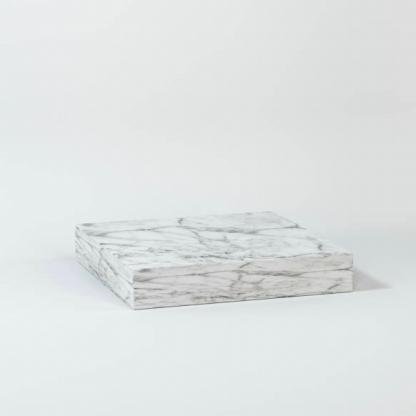Metamorphic_Marble: (68, 212, 366, 310)
